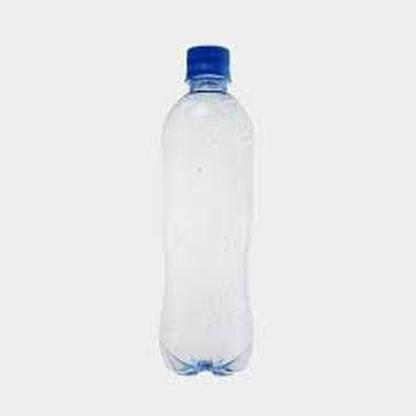plastic bottle: (160, 44, 256, 379)
